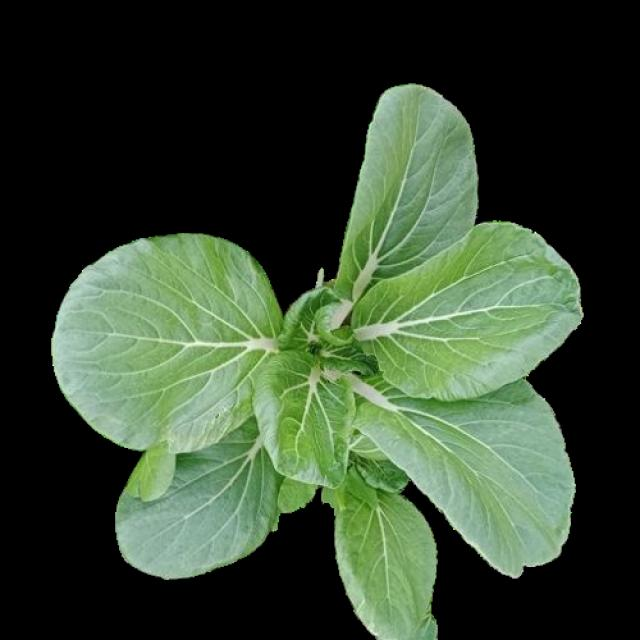healthy: (52, 82, 578, 637)
mature: (55, 84, 581, 640)
